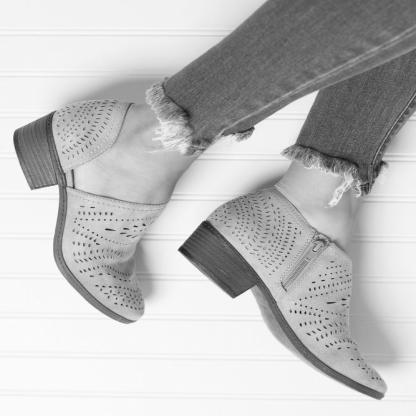ankle: (319, 237, 325, 241), (148, 131, 153, 135)
heel: (60, 110, 66, 115), (213, 216, 218, 220)
left_foot: (191, 189, 390, 402)
pinky: (365, 385, 370, 389), (106, 303, 111, 306)
right_foot: (14, 101, 190, 324)
toe: (376, 375, 380, 378), (142, 306, 145, 308)
